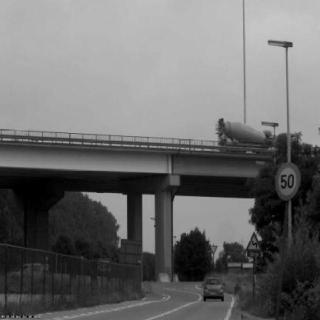other: (209, 116, 275, 150)
